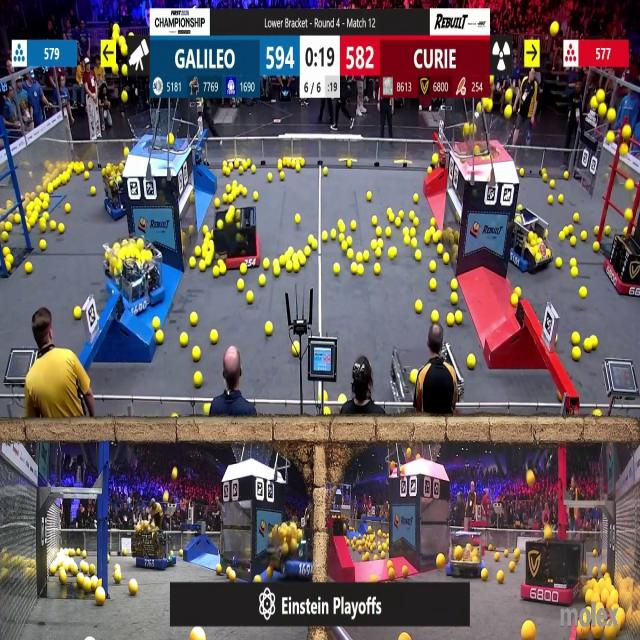ball_airborne: (526, 472, 535, 487), (484, 96, 493, 111), (118, 40, 126, 56), (623, 126, 632, 139), (504, 90, 512, 104), (551, 22, 559, 36), (543, 526, 551, 540), (607, 108, 615, 121), (120, 92, 128, 105), (598, 104, 606, 117), (463, 125, 472, 136), (597, 91, 605, 103), (504, 105, 511, 118), (626, 179, 634, 190), (626, 209, 633, 221), (591, 98, 598, 110), (112, 25, 119, 37), (606, 132, 614, 142), (621, 144, 628, 155), (172, 467, 178, 479), (432, 152, 438, 164), (111, 65, 118, 75), (121, 65, 127, 76), (164, 492, 170, 502), (473, 145, 479, 155), (407, 448, 413, 458), (155, 503, 161, 512), (169, 136, 174, 146), (490, 75, 494, 83)
ball_ground: (522, 622, 535, 640), (96, 589, 106, 605), (130, 581, 139, 596), (190, 630, 203, 640), (193, 373, 201, 388), (192, 347, 200, 361), (210, 331, 218, 345), (266, 321, 274, 335), (466, 354, 474, 368), (180, 334, 188, 348), (155, 332, 163, 345), (204, 405, 212, 418), (585, 339, 593, 352), (438, 555, 446, 568), (226, 568, 234, 581), (61, 569, 68, 583), (77, 573, 84, 587), (430, 311, 438, 323), (572, 348, 580, 360), (80, 562, 88, 574), (416, 301, 423, 314), (189, 313, 196, 326), (74, 307, 81, 320), (246, 291, 254, 302), (578, 287, 586, 298), (388, 248, 396, 259), (432, 233, 440, 244), (90, 564, 98, 575), (258, 275, 265, 287), (375, 265, 382, 277), (429, 279, 436, 291), (482, 568, 489, 580), (572, 334, 579, 346), (497, 570, 504, 582), (591, 338, 598, 350), (412, 371, 418, 385), (4, 221, 12, 231), (292, 344, 298, 357), (92, 576, 98, 589), (26, 264, 33, 275), (556, 257, 563, 268), (152, 318, 159, 329), (455, 313, 462, 324), (512, 294, 519, 305), (193, 246, 200, 257), (114, 570, 121, 581), (238, 280, 245, 291), (435, 244, 442, 255), (188, 257, 195, 268), (212, 268, 219, 279), (225, 213, 232, 224), (452, 291, 458, 303), (351, 264, 357, 276), (363, 250, 369, 262), (448, 314, 454, 326), (40, 219, 46, 231), (388, 568, 395, 578), (323, 408, 330, 418), (292, 264, 299, 274), (356, 252, 363, 262), (339, 220, 346, 230), (388, 212, 395, 222), (565, 225, 572, 235), (291, 252, 298, 262), (283, 159, 290, 169), (452, 280, 458, 291), (401, 566, 407, 577), (335, 265, 341, 276), (286, 263, 292, 274), (416, 250, 422, 261), (275, 267, 281, 278), (220, 266, 226, 277), (594, 411, 602, 419), (339, 234, 346, 243), (582, 233, 589, 242), (340, 393, 347, 402), (507, 562, 514, 571), (60, 222, 66, 232), (40, 240, 46, 250), (571, 268, 577, 278), (241, 266, 247, 276), (516, 286, 522, 296), (322, 232, 328, 242), (412, 238, 418, 248), (594, 242, 600, 252), (50, 220, 56, 230), (347, 248, 353, 258), (200, 262, 206, 272), (570, 236, 576, 246), (444, 253, 450, 263), (403, 237, 409, 247), (370, 240, 376, 250), (429, 263, 435, 273), (2, 233, 8, 243), (265, 261, 271, 271), (357, 267, 363, 277), (347, 238, 353, 248), (365, 190, 371, 200), (377, 228, 383, 238), (280, 255, 286, 265), (312, 240, 318, 250), (594, 225, 600, 235), (394, 217, 400, 227), (252, 190, 258, 200), (604, 225, 610, 235), (5, 264, 11, 274), (398, 210, 404, 220), (515, 551, 521, 561), (414, 192, 420, 202), (206, 256, 212, 266), (377, 240, 384, 248), (5, 255, 12, 263), (362, 554, 369, 562), (203, 247, 208, 258), (570, 257, 576, 266), (370, 573, 376, 582), (306, 247, 312, 256), (65, 204, 71, 213), (203, 224, 209, 233), (298, 256, 304, 265), (254, 574, 260, 583), (559, 233, 565, 242), (214, 200, 220, 209), (573, 213, 579, 222), (42, 201, 48, 210), (414, 217, 420, 226), (411, 229, 417, 238), (98, 577, 104, 586), (398, 634, 407, 640), (278, 161, 284, 170), (226, 194, 232, 203), (61, 592, 67, 601), (377, 248, 382, 258), (351, 220, 356, 230), (331, 231, 336, 241), (216, 564, 221, 574), (386, 228, 391, 238), (425, 236, 430, 246), (222, 192, 227, 202), (405, 226, 410, 236), (268, 568, 273, 578), (309, 236, 314, 246), (593, 567, 598, 577), (4, 248, 10, 256), (217, 220, 223, 228), (322, 168, 328, 176), (494, 554, 500, 562), (287, 247, 293, 255), (274, 258, 280, 266), (371, 554, 377, 562), (47, 184, 53, 192), (371, 216, 376, 225), (269, 173, 274, 182), (92, 186, 97, 195), (294, 214, 299, 223), (547, 197, 552, 206), (410, 211, 415, 220), (551, 182, 556, 191), (243, 187, 248, 196), (280, 172, 285, 181), (14, 215, 19, 224), (123, 147, 128, 156), (299, 160, 304, 169), (381, 553, 387, 560), (541, 175, 547, 182), (187, 225, 193, 232), (42, 212, 48, 219), (559, 194, 564, 202), (564, 172, 569, 180), (323, 392, 328, 400), (225, 184, 230, 192), (503, 550, 508, 558), (224, 168, 229, 176), (233, 181, 238, 189), (232, 190, 237, 198), (520, 169, 524, 178), (179, 550, 184, 557), (430, 218, 435, 225), (251, 167, 256, 174), (84, 172, 88, 180), (388, 560, 392, 568), (348, 161, 352, 169), (123, 549, 127, 557), (114, 564, 119, 570), (428, 168, 432, 175), (90, 163, 94, 170), (489, 543, 493, 550), (240, 168, 244, 175), (295, 166, 299, 173), (593, 550, 597, 557), (108, 556, 111, 564)
goal: (458, 117, 518, 158), (126, 114, 188, 150)
robot_blue: (102, 240, 166, 317), (505, 210, 551, 272), (267, 522, 313, 581), (131, 524, 175, 571), (449, 529, 486, 579), (102, 176, 128, 219)
robot_red: (524, 530, 586, 604), (214, 210, 259, 270), (605, 235, 640, 297)
